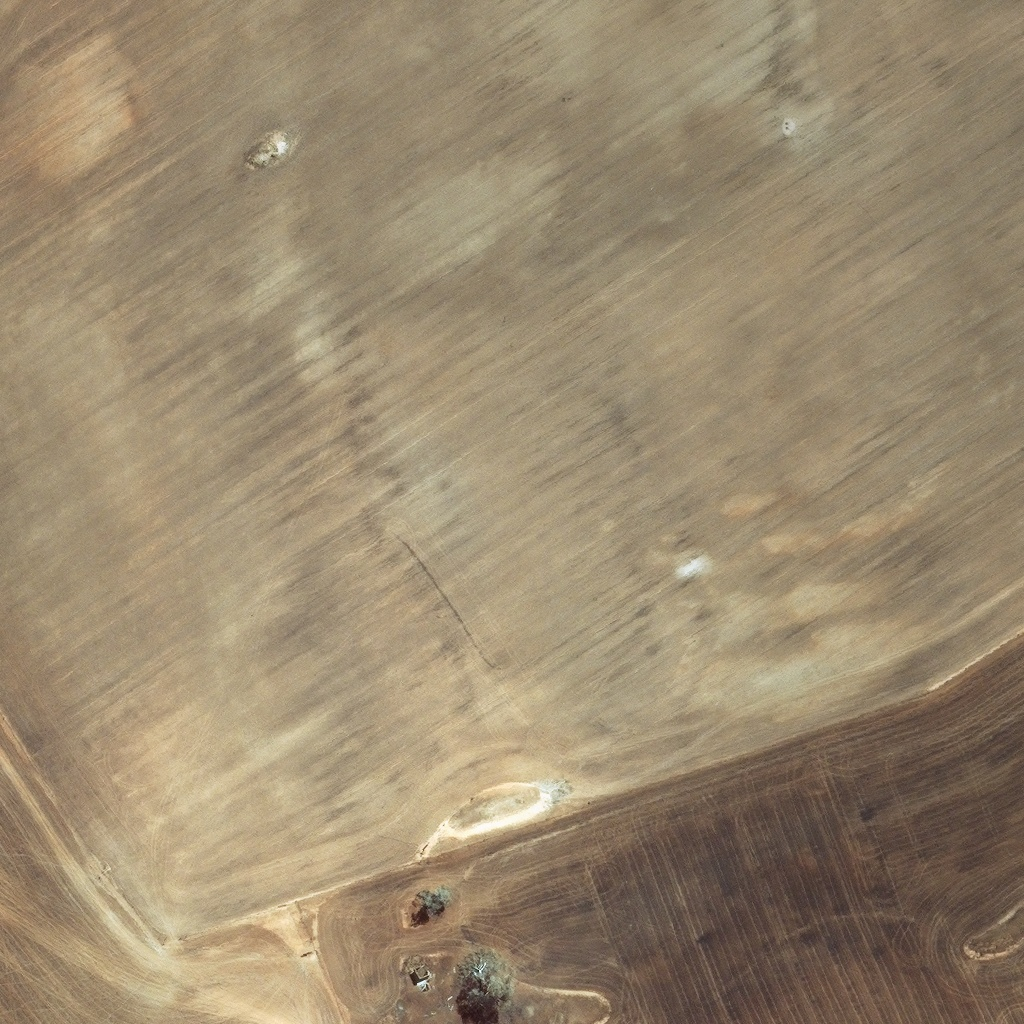3 destroyed: (411, 962, 429, 978)
